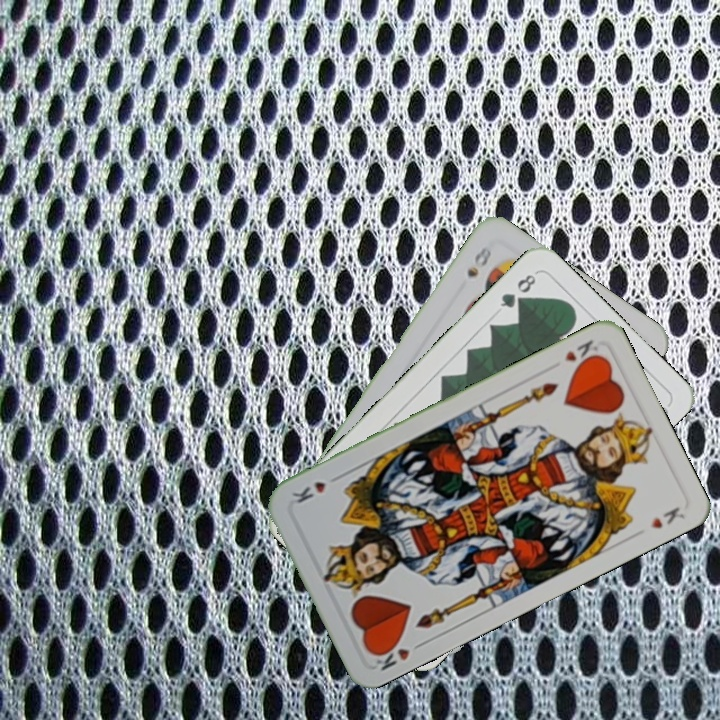G8: (496, 268, 540, 311)
HK: (369, 636, 427, 674), (560, 335, 596, 364)
S8: (462, 241, 495, 280)
